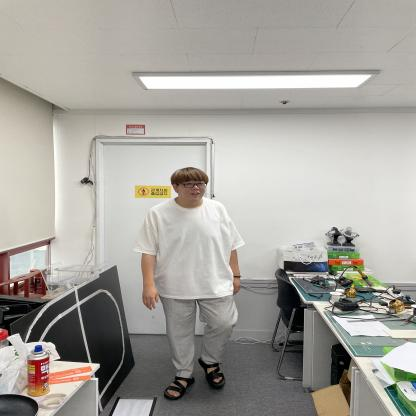normal: (133, 166, 247, 400)
